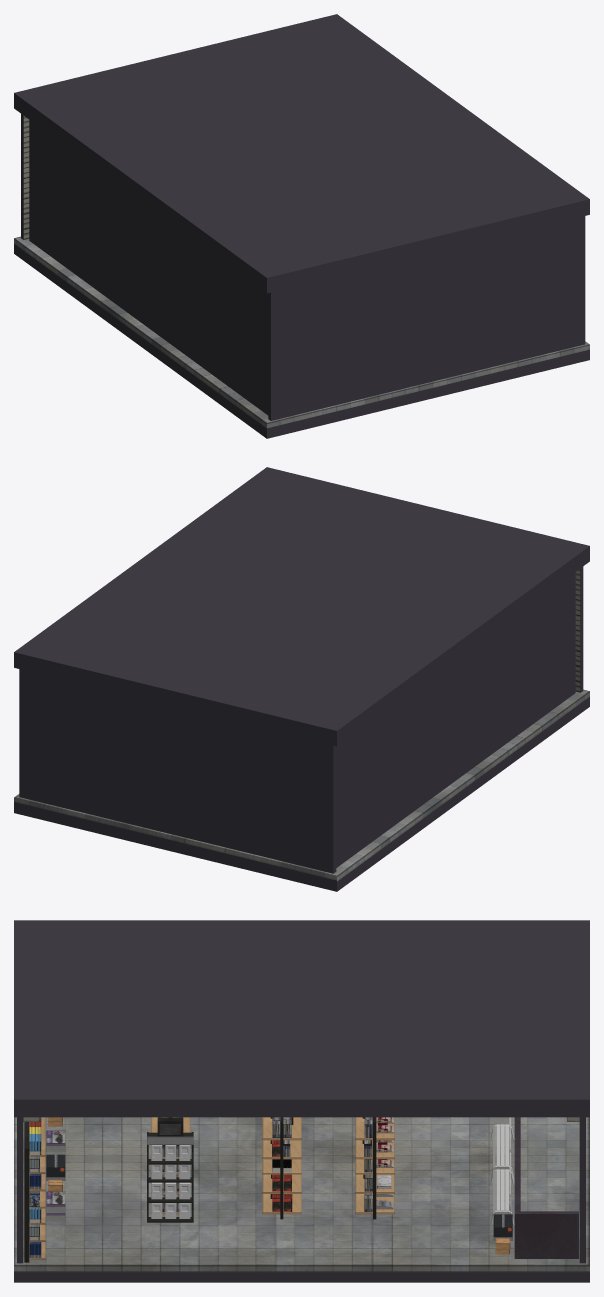
The model's file is RetroGameF2.fbx.
The picture shows the model from 3 angles, top to bottom: view 1: azimuth 30°, elevation 25°; view 2: azimuth 150°, elevation 25°; view 3: azimuth 270°, elevation 25°; orthographic projection. The views are drawn at different scales.
Visible parts, largest first — view 1: Cube.029, Cube.026, Cube.028, Cube, Cube.027; view 2: Cube.029, Cube.027, Cube.028, Cube, Cube.026; view 3: Cube.029, Cube, Cube.030, Cube.027, Cube.026, Plane.020, Plane.019, Cube.505, Cube.501, Cube.107, Cube.542, Cube.498 (+4 smaller).
Part boxes in pixels (x1,y1,x2,y2): Cube.029: [14, 14, 589, 293]; Cube.026: [268, 216, 585, 420]; Cube.028: [29, 120, 268, 415]; Cube: [14, 236, 589, 438]; Cube.027: [21, 114, 29, 239]; Cube.029: [14, 467, 589, 746]; Cube.027: [19, 669, 336, 873]; Cube.028: [336, 572, 575, 867]; Cube: [14, 689, 589, 891]; Cube.026: [575, 566, 583, 692]; Cube.029: [14, 920, 589, 1117]; Cube: [14, 1117, 589, 1282]; Cube.030: [514, 1117, 578, 1258]; Cube.027: [579, 1117, 585, 1263]; Cube.026: [17, 1117, 23, 1263]; Plane.020: [490, 1152, 514, 1225]; Plane.019: [490, 1117, 514, 1179]; Cube.505: [24, 1122, 29, 1262]; Cube.501: [262, 1117, 301, 1140]; Cube.107: [157, 1117, 183, 1136]; Cube.542: [46, 1154, 65, 1180]; Cube.498: [262, 1194, 301, 1214].
Bounding box in the file's own units: 520 × 247 × 705.
